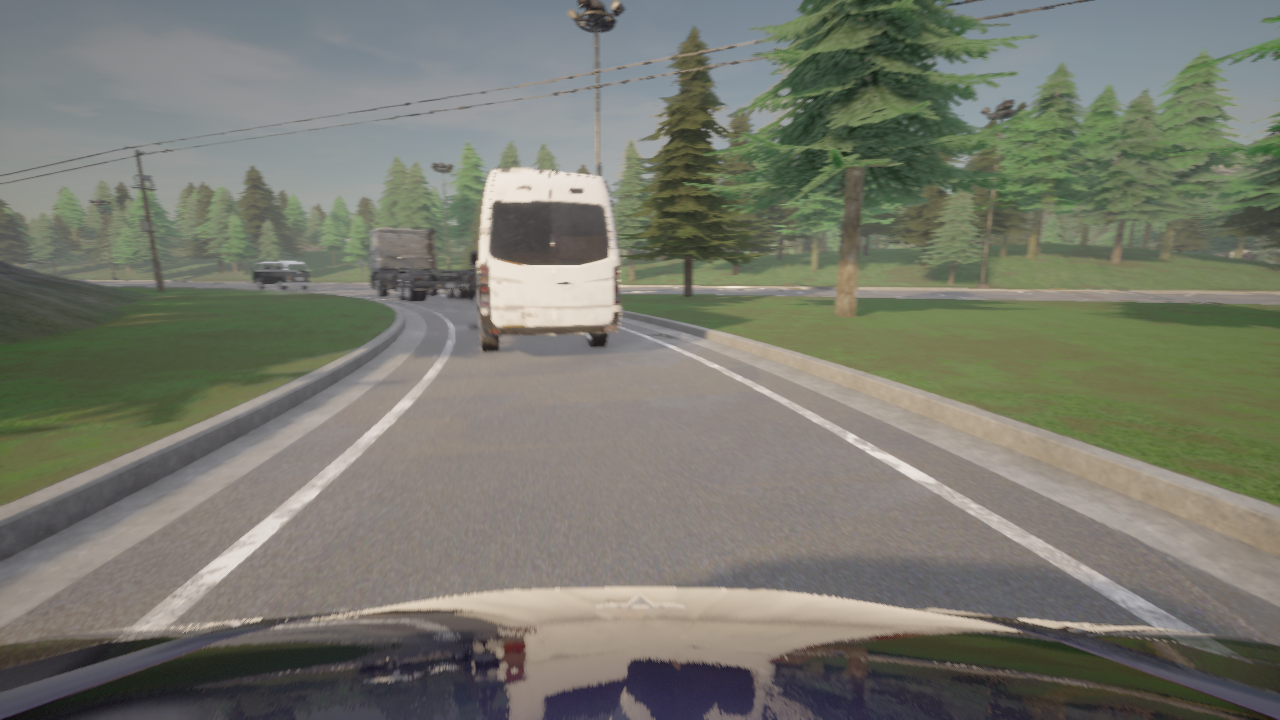cyclist: (0, 588, 1279, 719), (469, 169, 620, 352), (362, 227, 477, 301), (251, 261, 311, 290)
